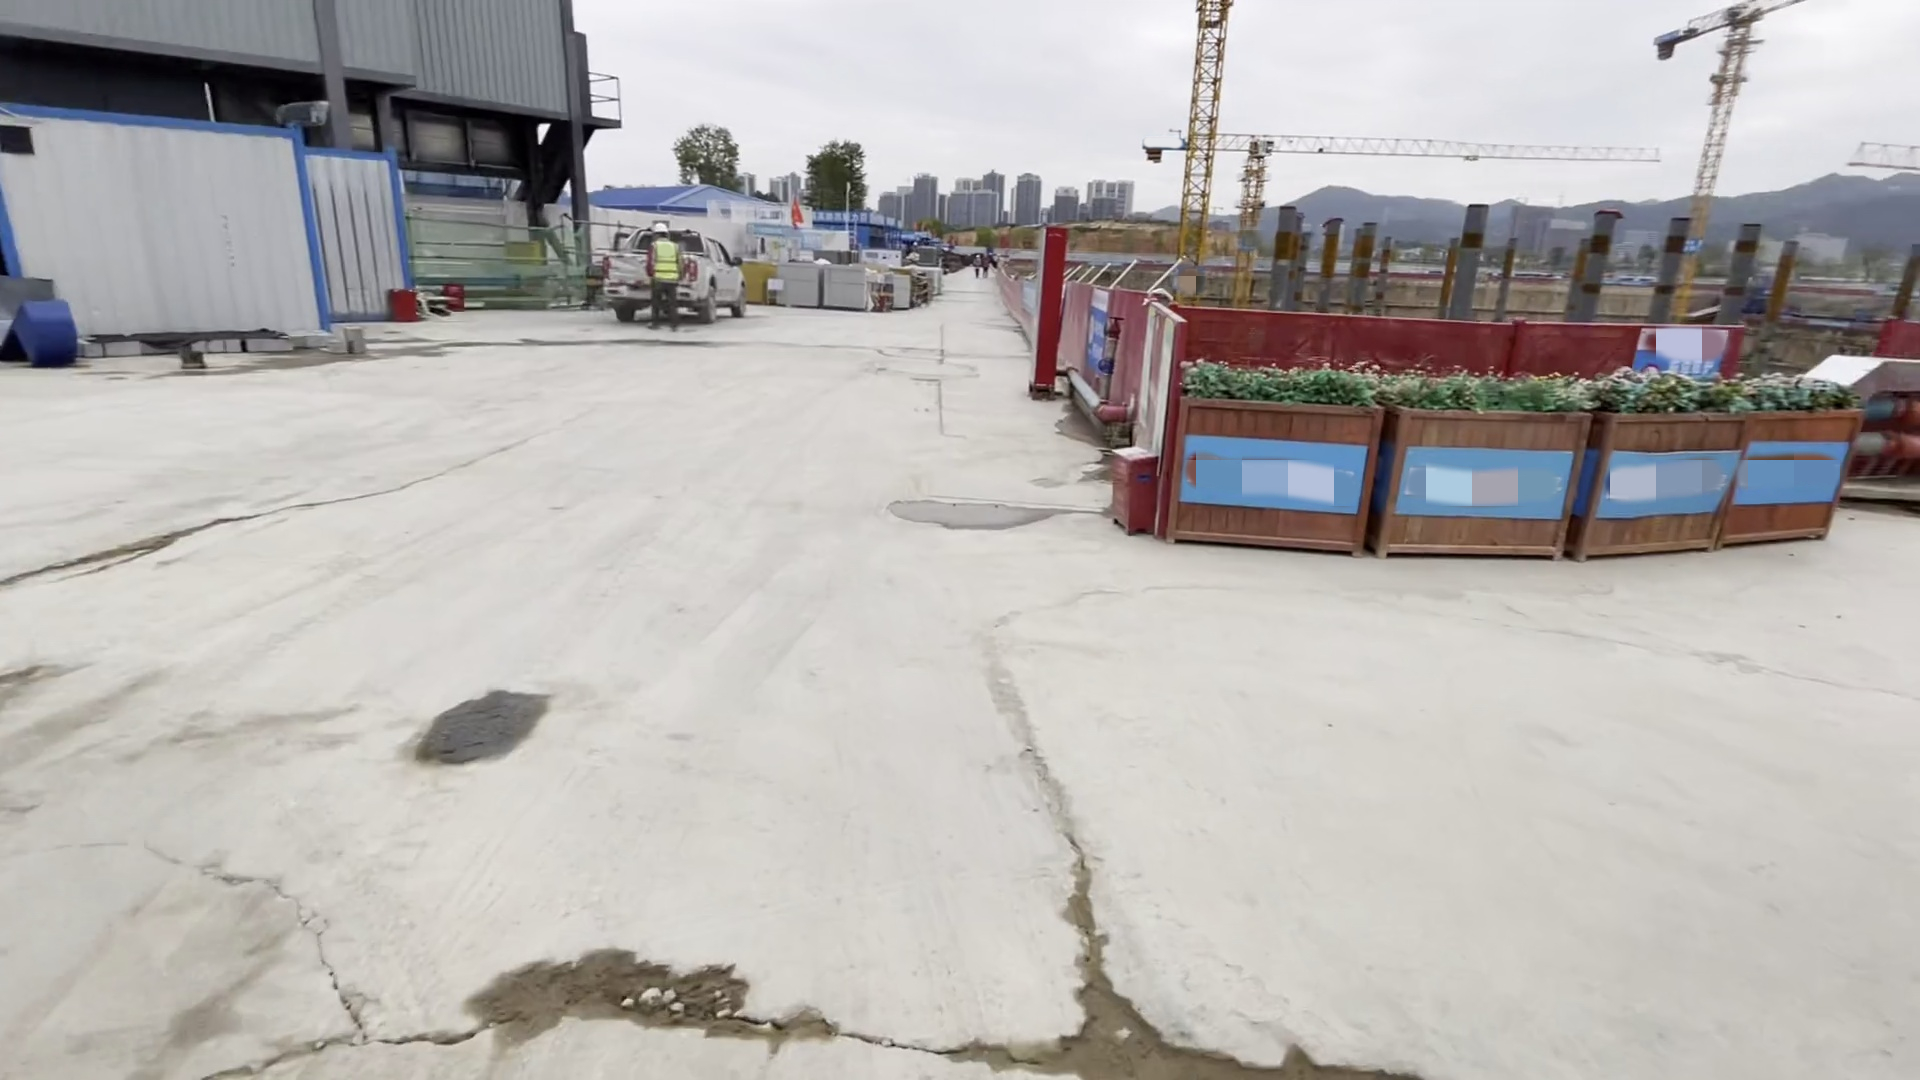brick: (773, 263, 867, 312)
helmet: (651, 223, 665, 233)
person: (643, 219, 701, 332), (981, 250, 993, 278), (970, 254, 982, 278)
vest: (648, 238, 677, 280)
